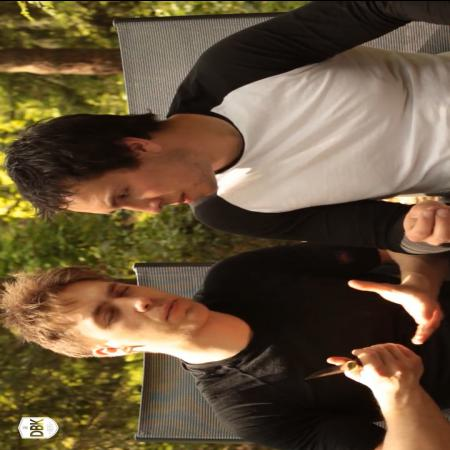long weapon: (279, 339, 402, 386)
